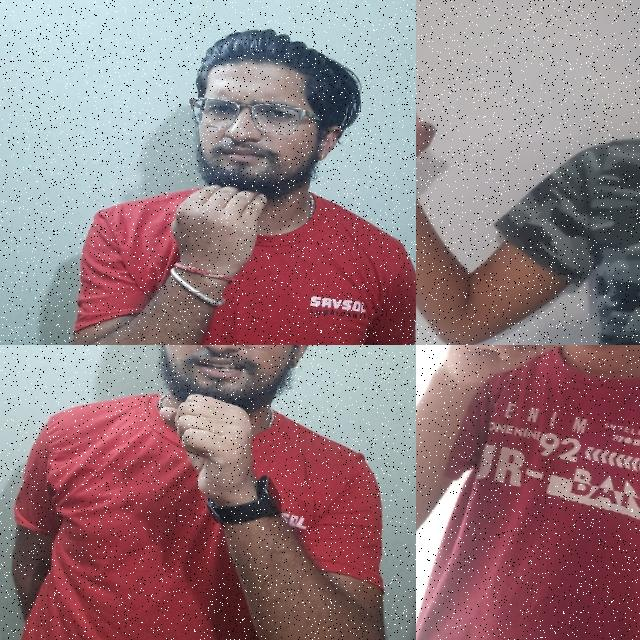Chin Flick: (156, 14, 345, 298)
Fist Mouth: (106, 345, 337, 540), (416, 345, 640, 440)
Okay: (416, 27, 458, 224)
